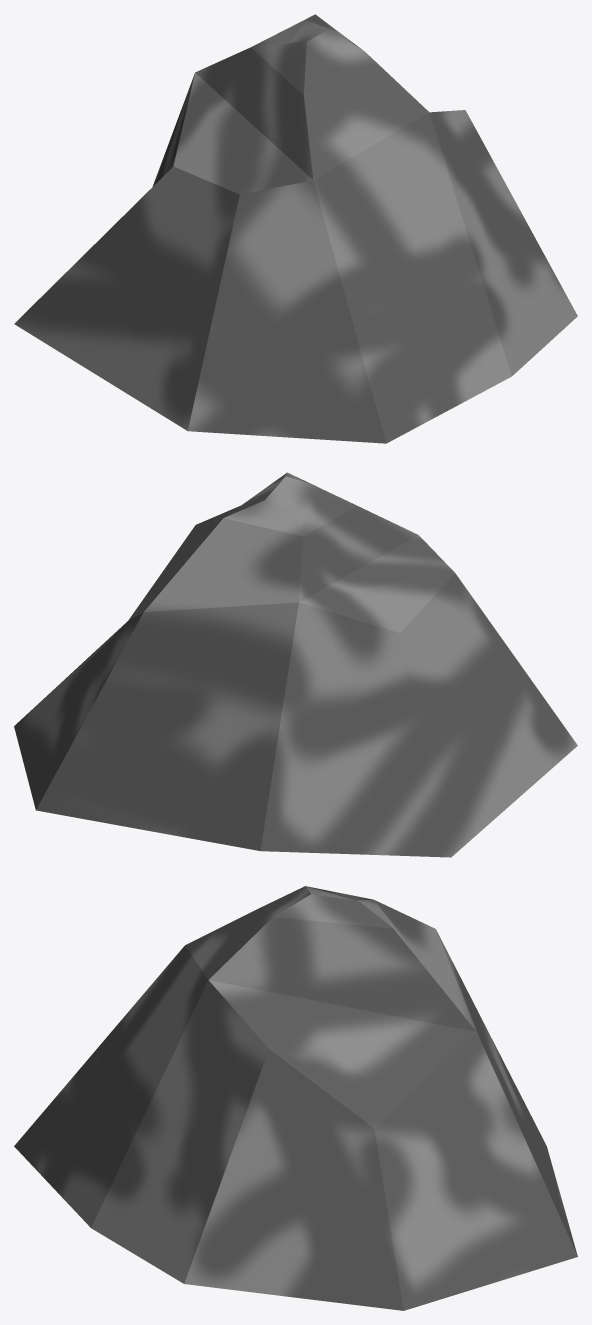
The model's file is stone.obj.
3 views of the same model, one above another, from view 1: azimuth 30°, elevation 25°; view 2: azimuth 150°, elevation 25°; view 3: azimuth 270°, elevation 25° (orthographic). The views are drawn at different scales.
Visible parts, largest first — view 1: Plane; view 2: Plane; view 3: Plane.
Boxes of the visible parts, left/top/right/bottom form: Plane: left=14, top=14, right=577, bottom=443; Plane: left=14, top=472, right=577, bottom=857; Plane: left=14, top=886, right=577, bottom=1310.
Size of the model in its own units: 2.06 by 1.17 by 2.02.
Materials: 1 (1 with a texture image).
